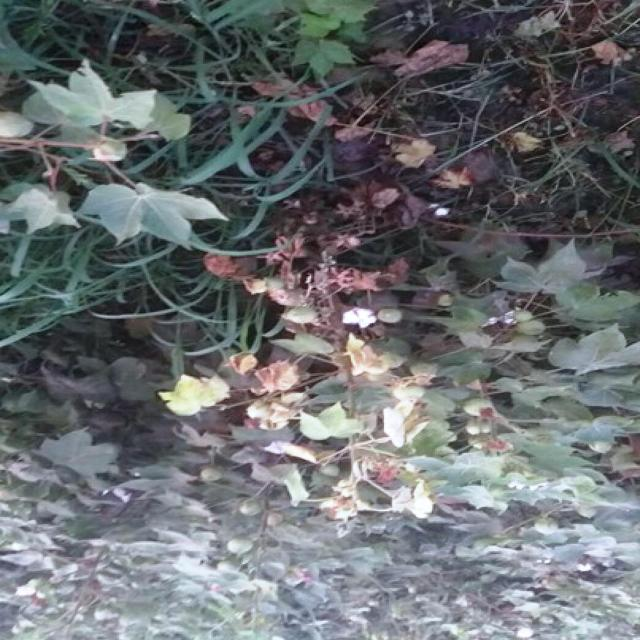Fusarium Wilt: (84, 31, 567, 544)
